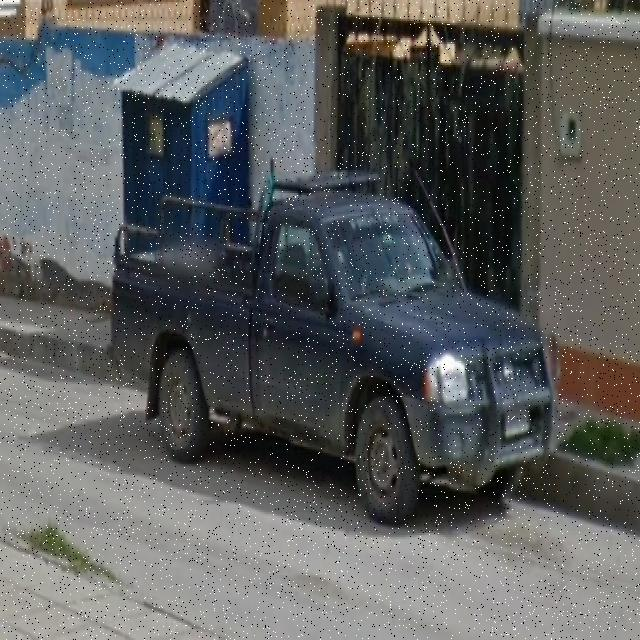cars: (107, 176, 555, 520)
